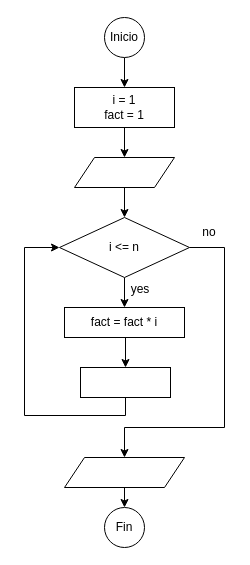
Some shapes in this 250 by 565 pixel diagram are drawn without their labels. The shapes that lost their labels are listed below. From the top down, each one's centre as x and y in pixels, then its label:
the point at 124,172: Leer(n)
the point at 125,382: i = i + 1
the point at 124,472: Escribir(fact)
